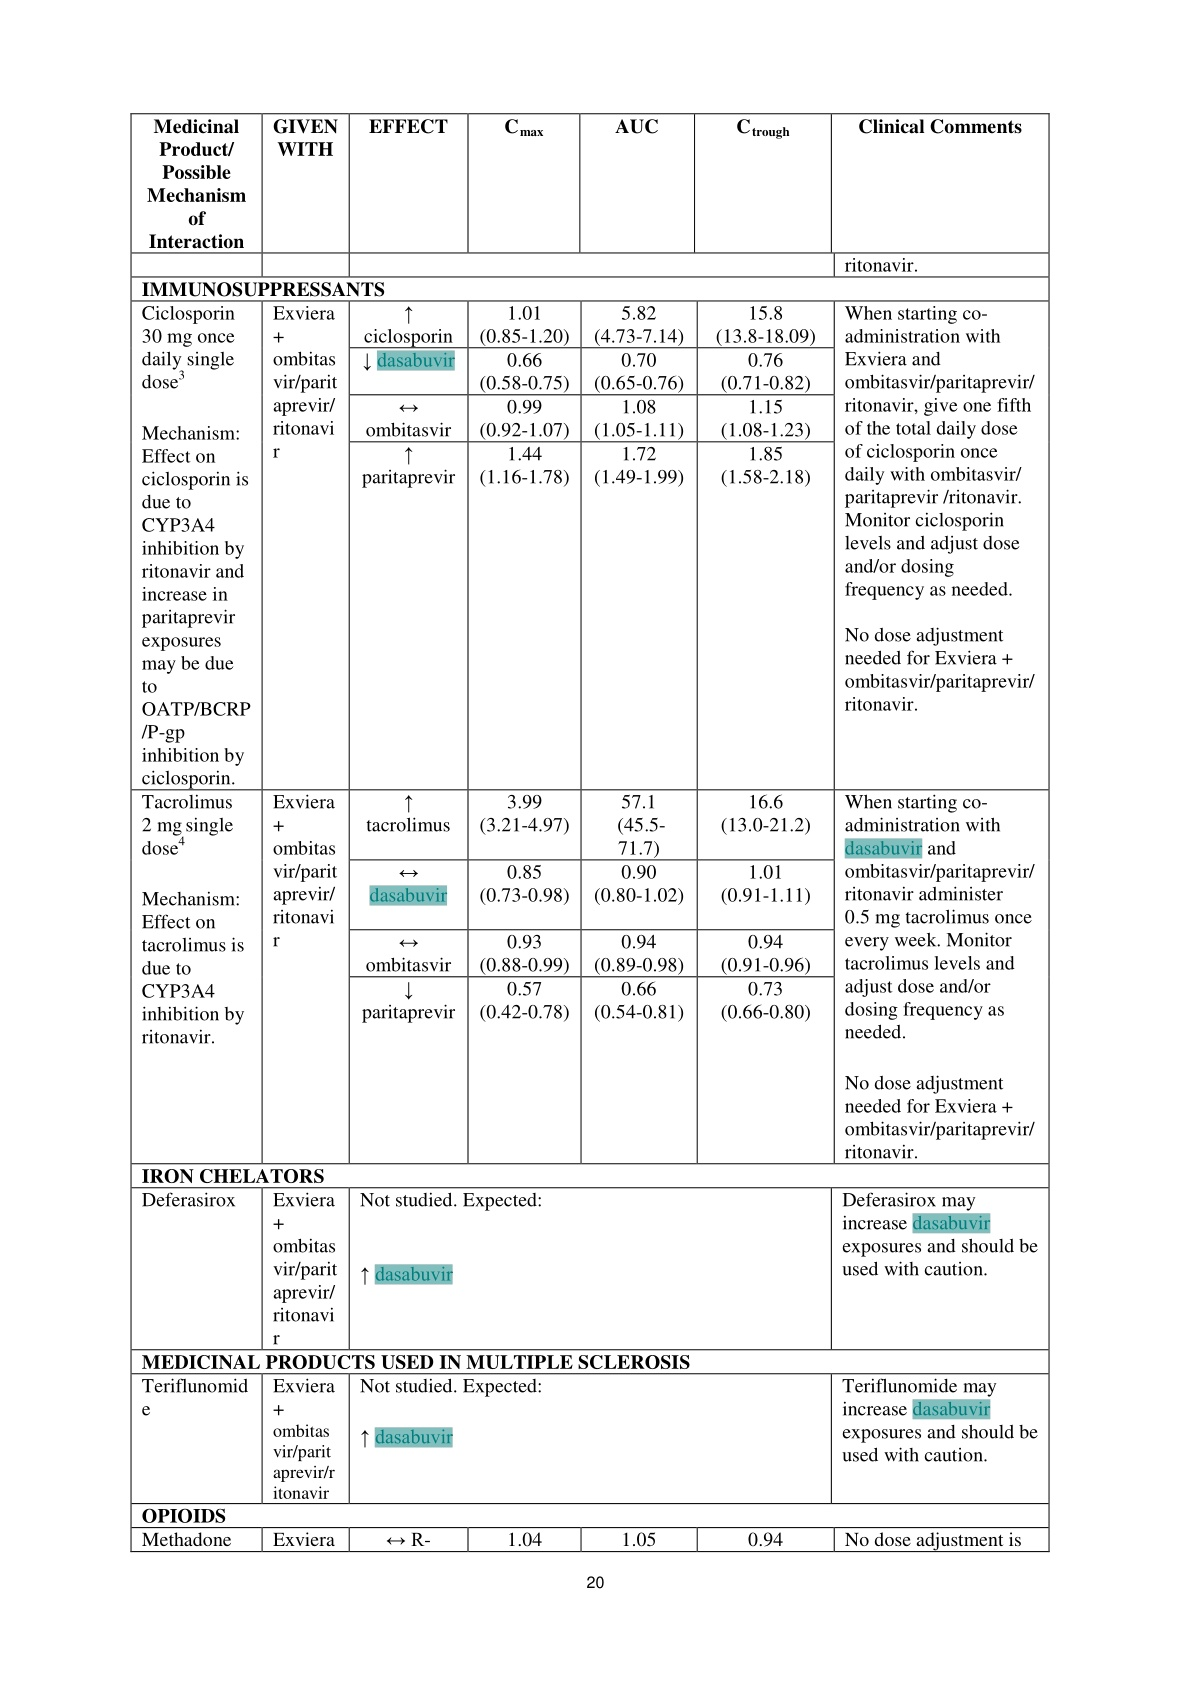merged_cells: (130, 112, 1051, 1553)
